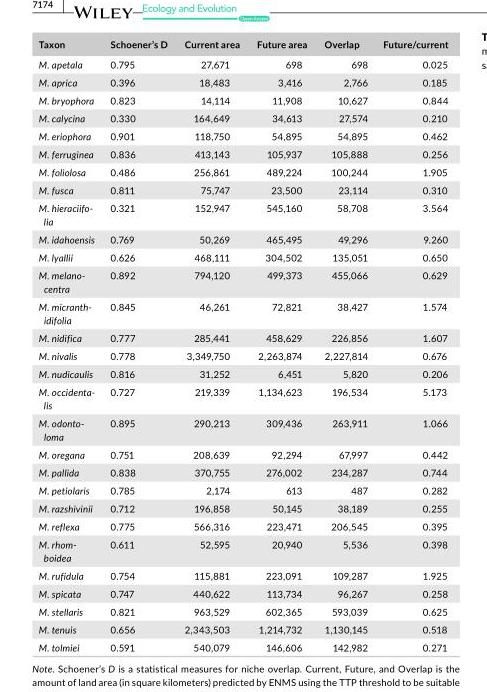table: (37, 37, 447, 652)
table column: (101, 37, 175, 652), (374, 37, 447, 652), (175, 37, 247, 652), (247, 37, 314, 652), (37, 37, 101, 652), (314, 37, 374, 652)
table column header: (37, 37, 447, 53)
table row: (37, 265, 447, 297), (37, 534, 447, 566), (37, 198, 447, 229), (37, 297, 447, 328), (37, 382, 447, 413), (37, 413, 447, 444), (37, 53, 447, 72), (37, 72, 447, 90), (37, 90, 447, 108), (37, 108, 447, 126), (37, 126, 447, 144), (37, 144, 447, 162), (37, 162, 447, 180), (37, 180, 447, 198), (37, 229, 447, 247), (37, 247, 447, 265), (37, 328, 447, 346), (37, 346, 447, 364), (37, 364, 447, 382), (37, 444, 447, 462), (37, 462, 447, 480), (37, 480, 447, 498), (37, 498, 447, 516), (37, 516, 447, 534), (37, 566, 447, 584), (37, 601, 447, 619), (37, 619, 447, 637), (37, 584, 447, 601), (37, 37, 447, 53), (37, 637, 447, 652)
